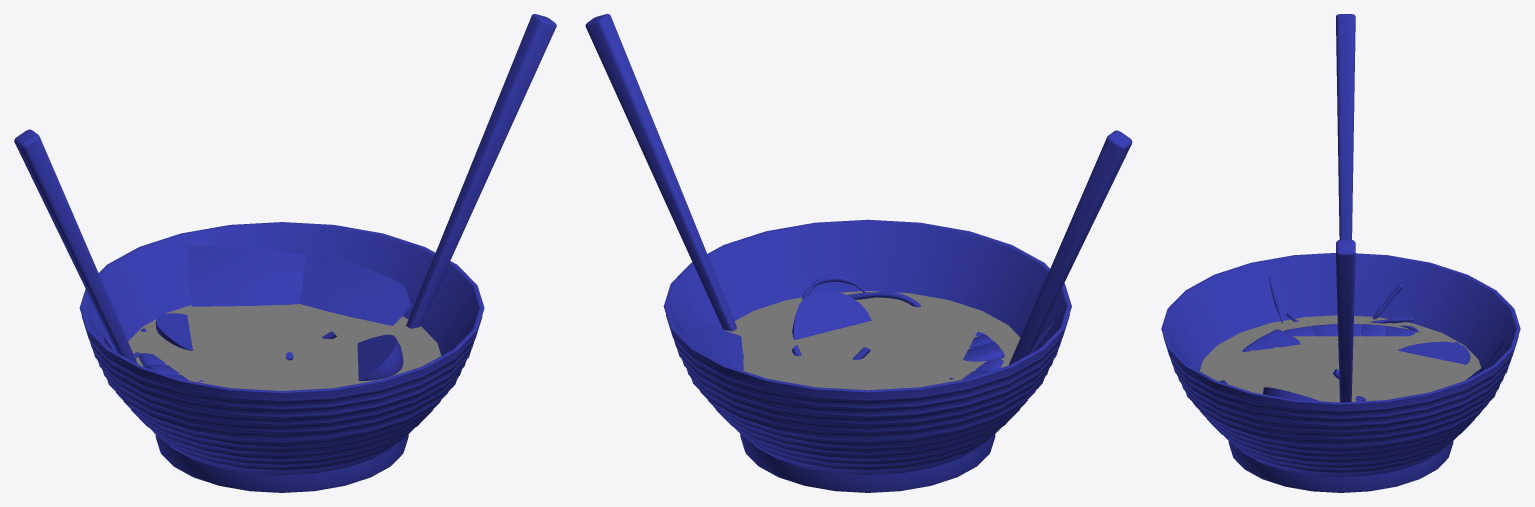
The model's file is RamenBuilding.fbx.
3 views of the same model, side by side, from view 1: azimuth 30°, elevation 25°; view 2: azimuth 150°, elevation 25°; view 3: azimuth 270°, elevation 25° (orthographic). The views are drawn at different scales.
Parts seen in each view (by area): view 1: Bowl, SoupLiquid, Chopstick001, AlgaePaper, AlgaePaper001, Chopstick, Egg, Egg001; view 2: Bowl, SoupLiquid, Chopstick001, Chopstick, Egg, AlgaePaper001, Box002, Meat001; view 3: Bowl, SoupLiquid, Chopstick, Chopstick001, Meat, Egg001, Box002, Meat001.
Part boxes in pixels (box(x1,y1,x2,y2)): Bowl: box(79, 222, 484, 492); SoupLiquid: box(128, 304, 441, 390); Chopstick001: box(406, 14, 556, 328); AlgaePaper: box(187, 246, 305, 306); AlgaePaper001: box(299, 251, 411, 325); Chopstick: box(14, 129, 137, 363); Egg: box(357, 334, 403, 380); Egg001: box(155, 313, 192, 350); Bowl: box(663, 219, 1071, 492); SoupLiquid: box(725, 291, 1020, 390); Chopstick001: box(585, 14, 736, 331); Chopstick: box(1008, 130, 1132, 365); Egg: box(792, 290, 871, 339); AlgaePaper001: box(694, 320, 743, 370); Box002: box(802, 275, 1053, 353); Meat001: box(963, 332, 1004, 361); Bowl: box(1161, 253, 1520, 492); SoupLiquid: box(1200, 315, 1481, 402); Chopstick: box(1336, 14, 1355, 239); Chopstick001: box(1336, 239, 1355, 402); Meat: box(1283, 324, 1415, 336); Egg001: box(1398, 341, 1470, 364); Box002: box(1220, 275, 1459, 384); Meat001: box(1242, 329, 1300, 352).
Size of the model in its own units: 14656 by 9599 by 9603.
